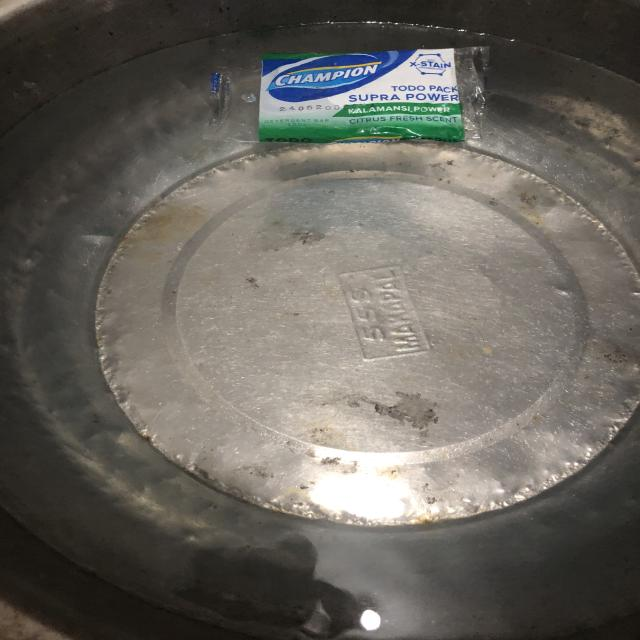Plastic Wrapper: (216, 56, 487, 156)
